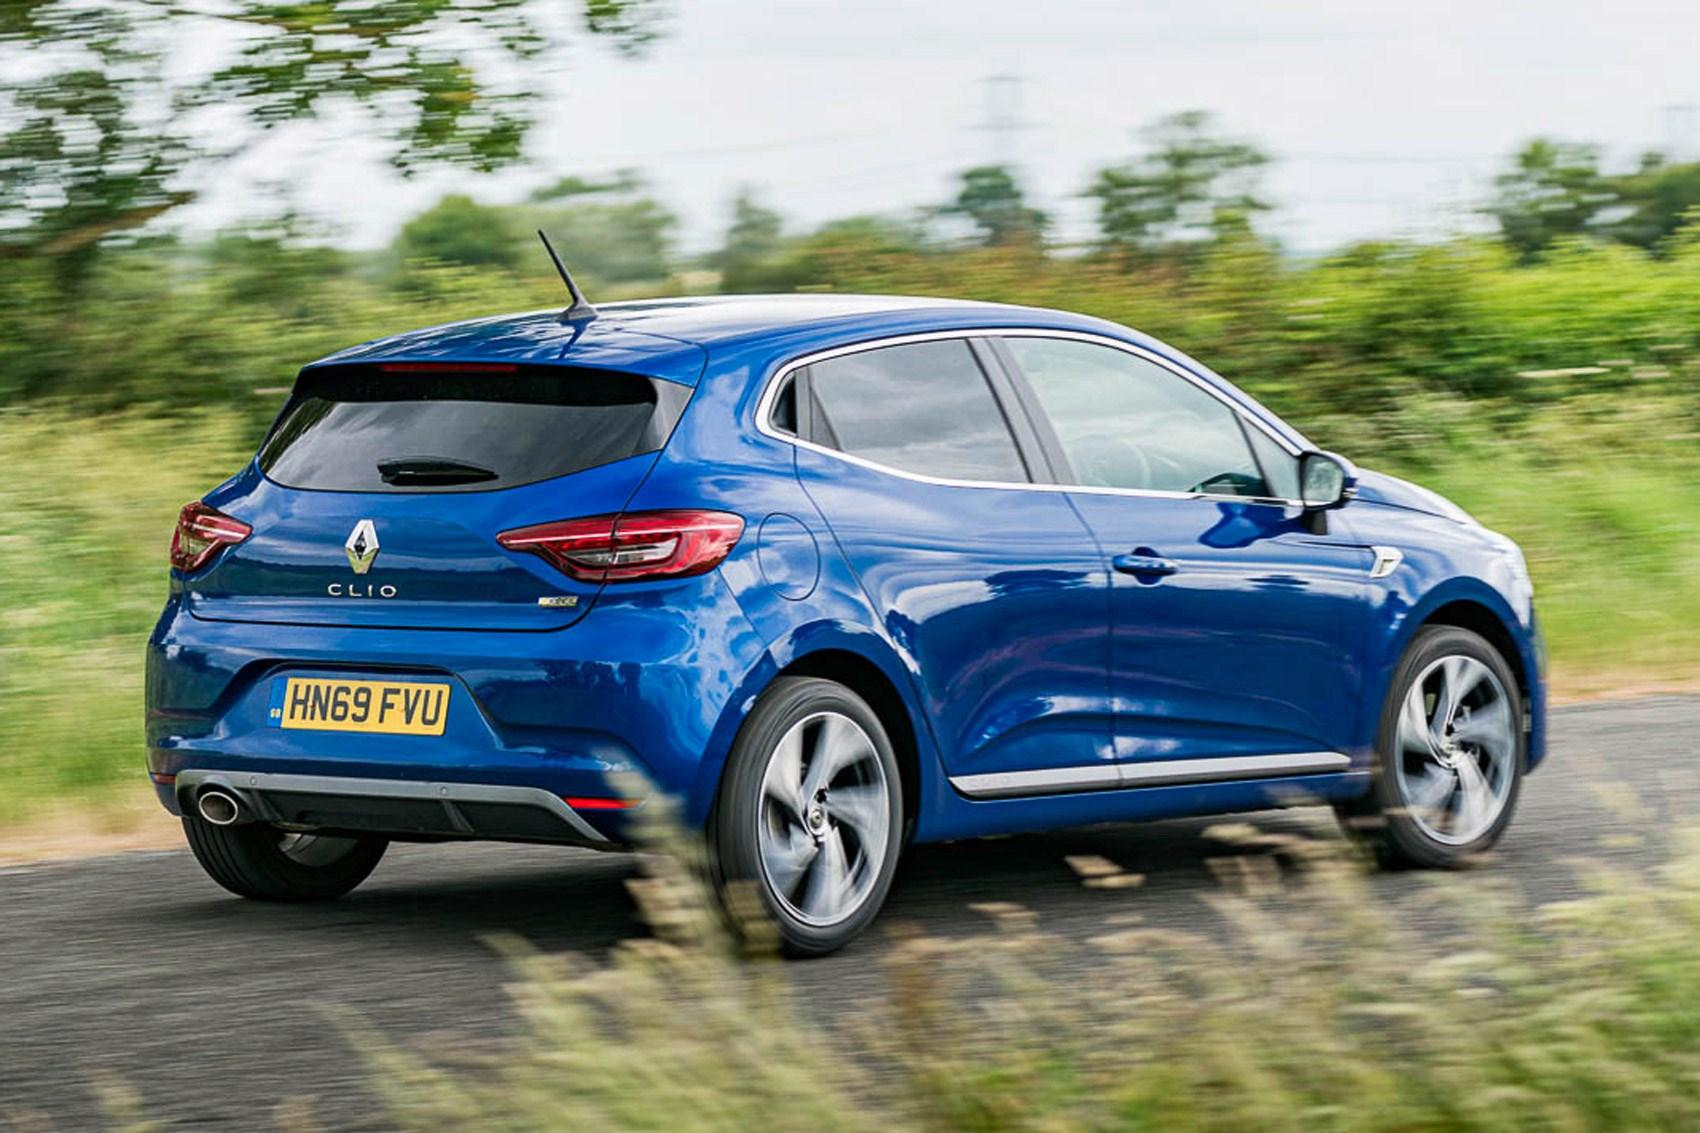Renault: (335, 498, 393, 596)
